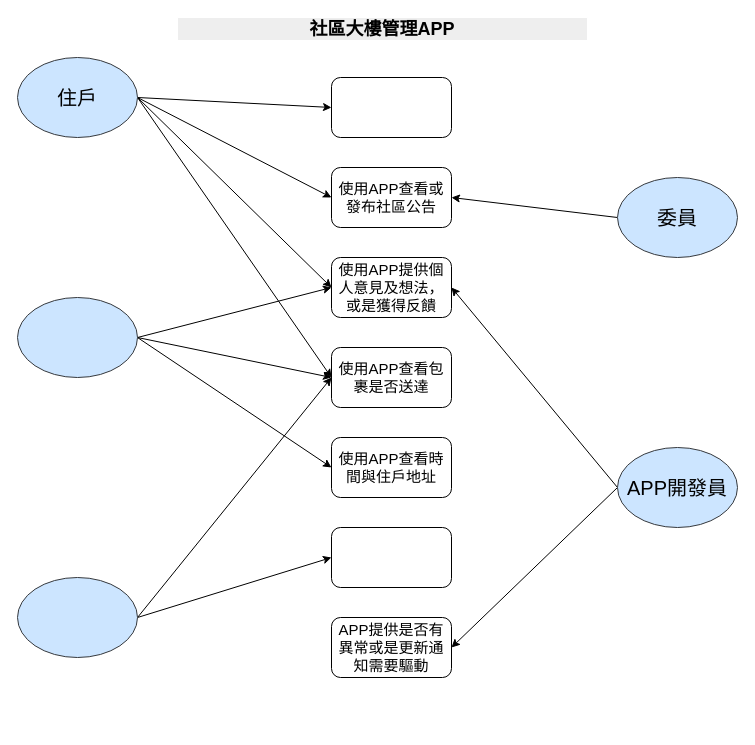
The diagram is 755 pixels wide and 745 high, and some of its shapes have lost their labels. Each missing label, with the centre of its shape:
使用APP新增或編輯使用者資料: the point at 391,107
警衛: the point at 77,617
讓警衛進行簽收: the point at 391,557
郵差: the point at 77,337
